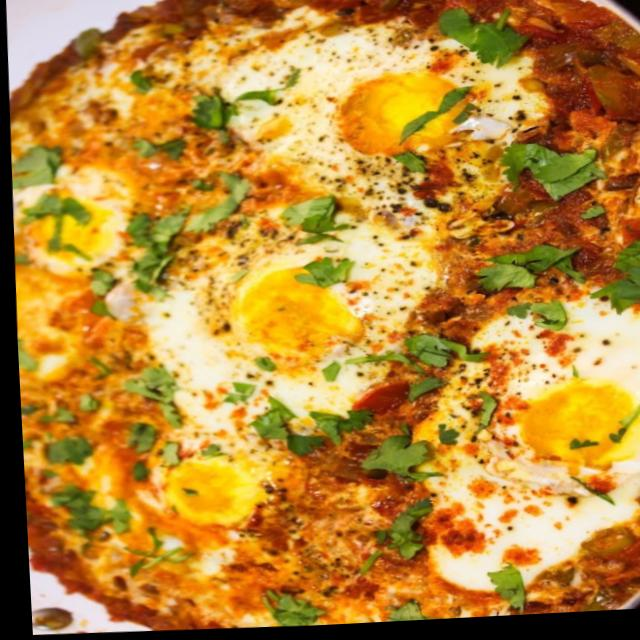EGG: (13, 0, 640, 628)
